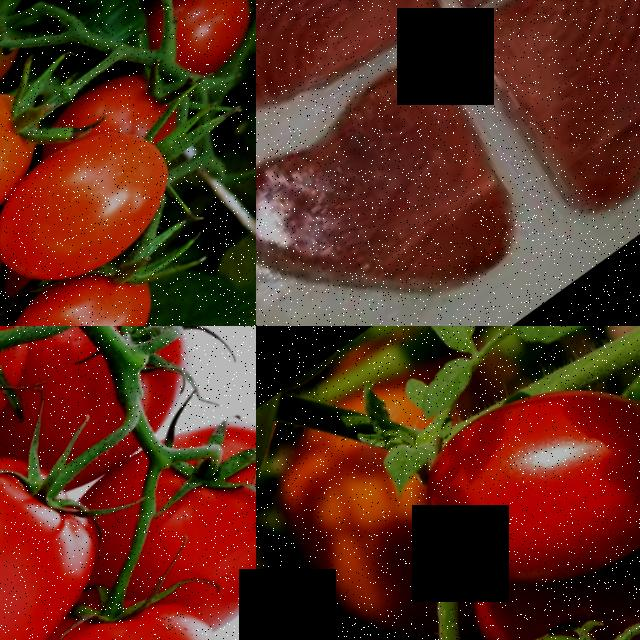tomato: (380, 326, 640, 640), (0, 100, 198, 326), (0, 402, 141, 640), (0, 555, 256, 640), (0, 326, 81, 576), (0, 238, 180, 326), (0, 63, 67, 272)
tuna: (256, 39, 549, 326), (439, 0, 640, 258), (256, 0, 453, 191)
